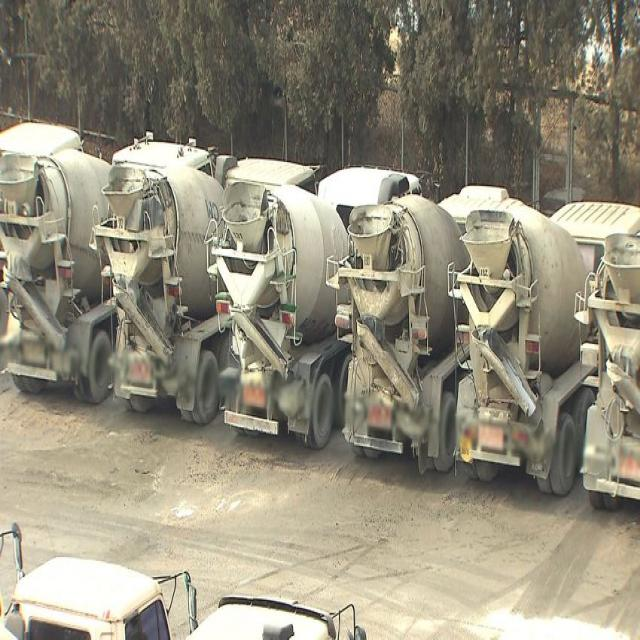Mixer Truck: (205, 164, 428, 453), (89, 156, 322, 428), (0, 139, 219, 407), (446, 199, 640, 496), (325, 185, 515, 475), (0, 118, 84, 356), (573, 231, 640, 515), (0, 554, 177, 640), (181, 592, 338, 640)
